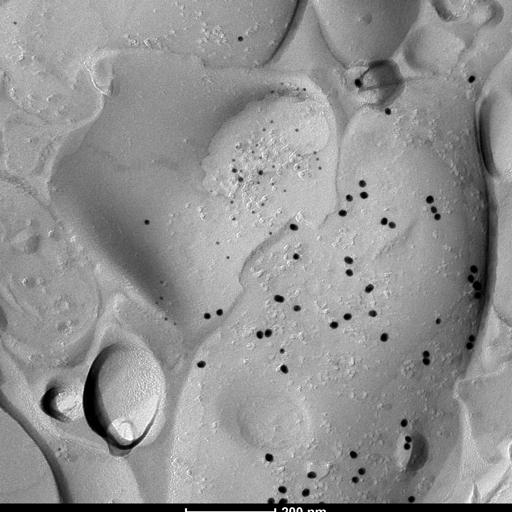1: (230, 166, 238, 174), (237, 175, 245, 183), (257, 168, 265, 176)
6 nm Particle: (230, 216, 236, 222), (229, 199, 235, 205), (270, 164, 276, 170), (231, 157, 237, 163), (261, 127, 267, 133), (267, 231, 273, 237), (249, 209, 255, 215), (260, 201, 266, 207), (295, 164, 301, 170), (317, 165, 323, 171), (314, 156, 320, 162), (311, 150, 317, 156), (296, 153, 302, 159), (257, 155, 263, 161), (250, 150, 256, 156), (254, 142, 260, 148), (255, 180, 261, 186), (268, 119, 274, 125), (294, 127, 300, 133), (282, 188, 288, 194), (238, 168, 244, 174), (270, 181, 276, 187)
